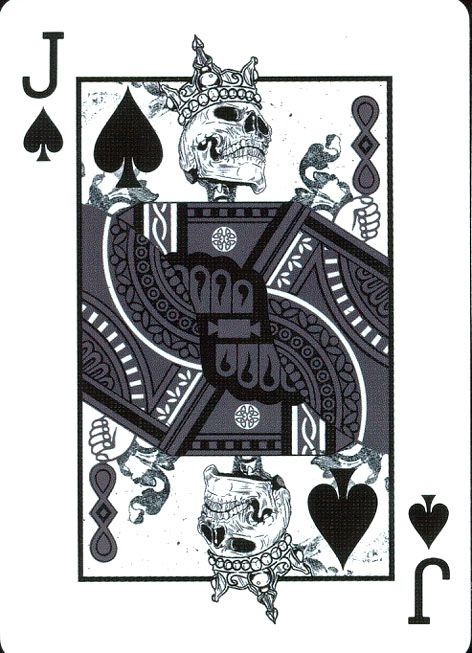jack of spades: (5, 4, 467, 647)
